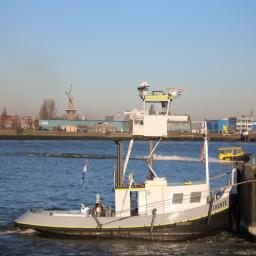tugboat: (14, 75, 240, 248)
